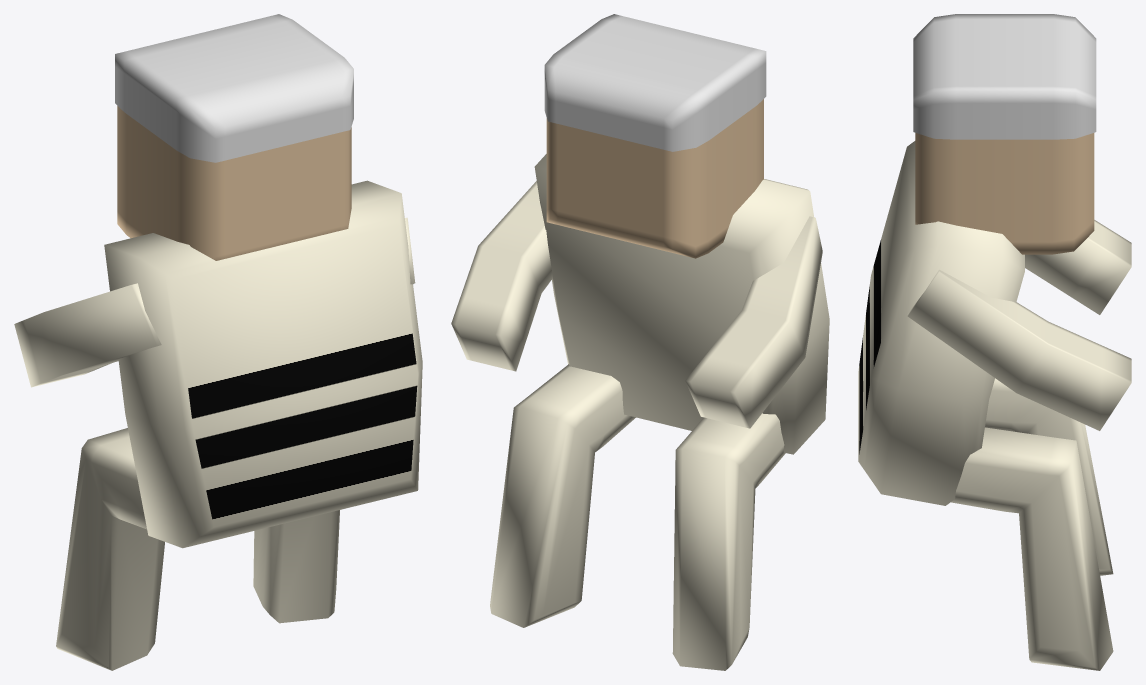
The model's file is Crook.fbx.
3 renders of one model, left to right at view 1: azimuth 30°, elevation 25°; view 2: azimuth 150°, elevation 25°; view 3: azimuth 270°, elevation 25°, orthographic. The views are drawn at different scales.
Visible parts, largest first — view 1: Crook Torso, Hat, Head, Leg1.001, Arm2, Leg1; view 2: Crook Torso, Leg1, Hat, Head, Leg1.001, Arm2, Arm1; view 3: Crook Torso, Hat, Leg1, Head, Arm1, Arm2, Leg1.001.
Part boxes in pixels (bbox=[...]): Crook Torso: bbox=[104, 180, 422, 548]; Hat: bbox=[115, 14, 353, 162]; Head: bbox=[117, 106, 351, 260]; Leg1.001: bbox=[56, 428, 164, 670]; Arm2: bbox=[14, 283, 161, 387]; Leg1: bbox=[253, 510, 339, 623]; Crook Torso: bbox=[534, 154, 829, 454]; Leg1: bbox=[490, 364, 635, 627]; Hat: bbox=[544, 14, 766, 151]; Head: bbox=[546, 99, 763, 258]; Leg1.001: bbox=[672, 413, 785, 670]; Arm2: bbox=[685, 216, 822, 428]; Arm1: bbox=[451, 181, 552, 371]; Crook Torso: bbox=[858, 141, 1024, 505]; Hat: bbox=[913, 14, 1096, 139]; Leg1: bbox=[951, 427, 1113, 670]; Head: bbox=[915, 133, 1094, 254]; Arm1: bbox=[907, 269, 1131, 430]; Arm2: bbox=[1025, 220, 1131, 314]; Leg1.001: bbox=[985, 378, 1113, 575].
Bounding box in the file's own units: 243 × 182 × 411.
